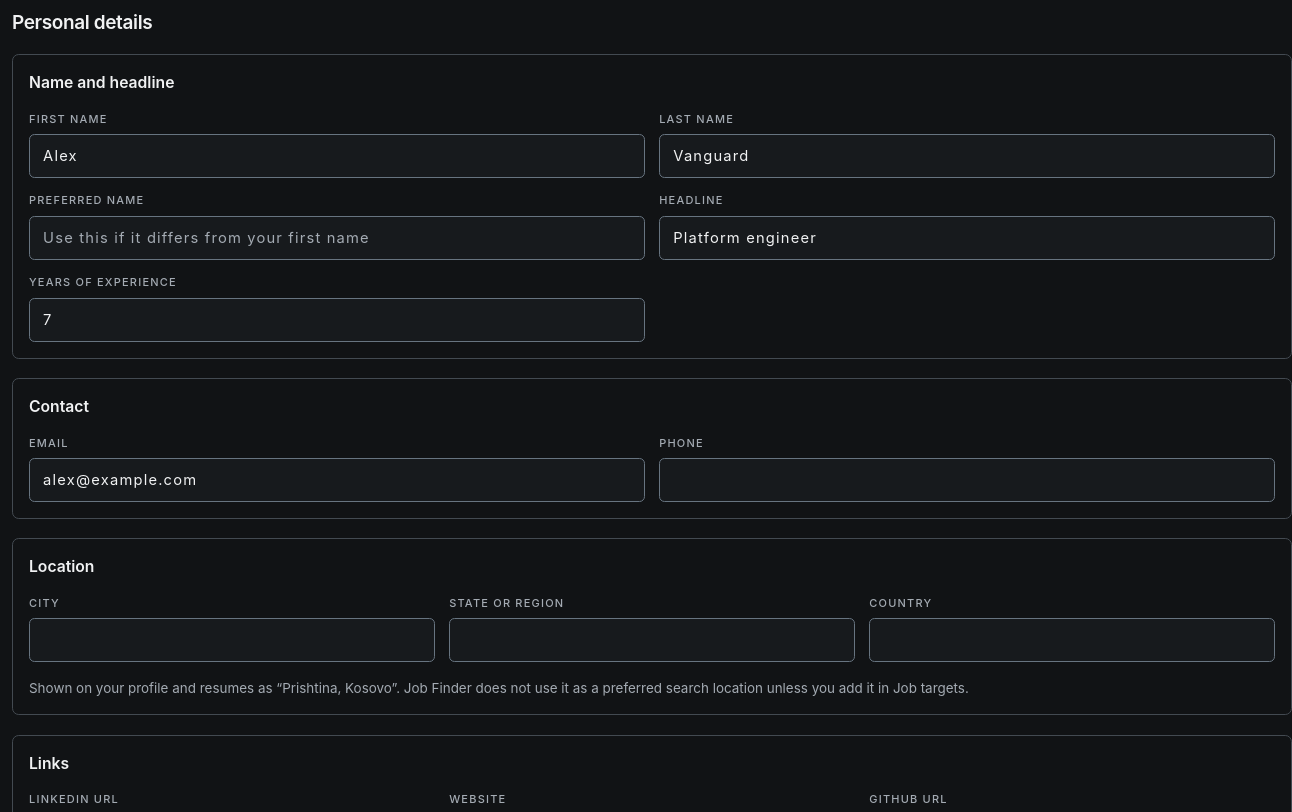
Test: ProfileCoreTab accessibility › marks an invalid email with an inline accessible error
The width and height of the screenshot is (1292, 812).
Step 1. Replace the text in the field labelled "Email" with "not-an-email" → [337, 480], box [29,458,645,502]
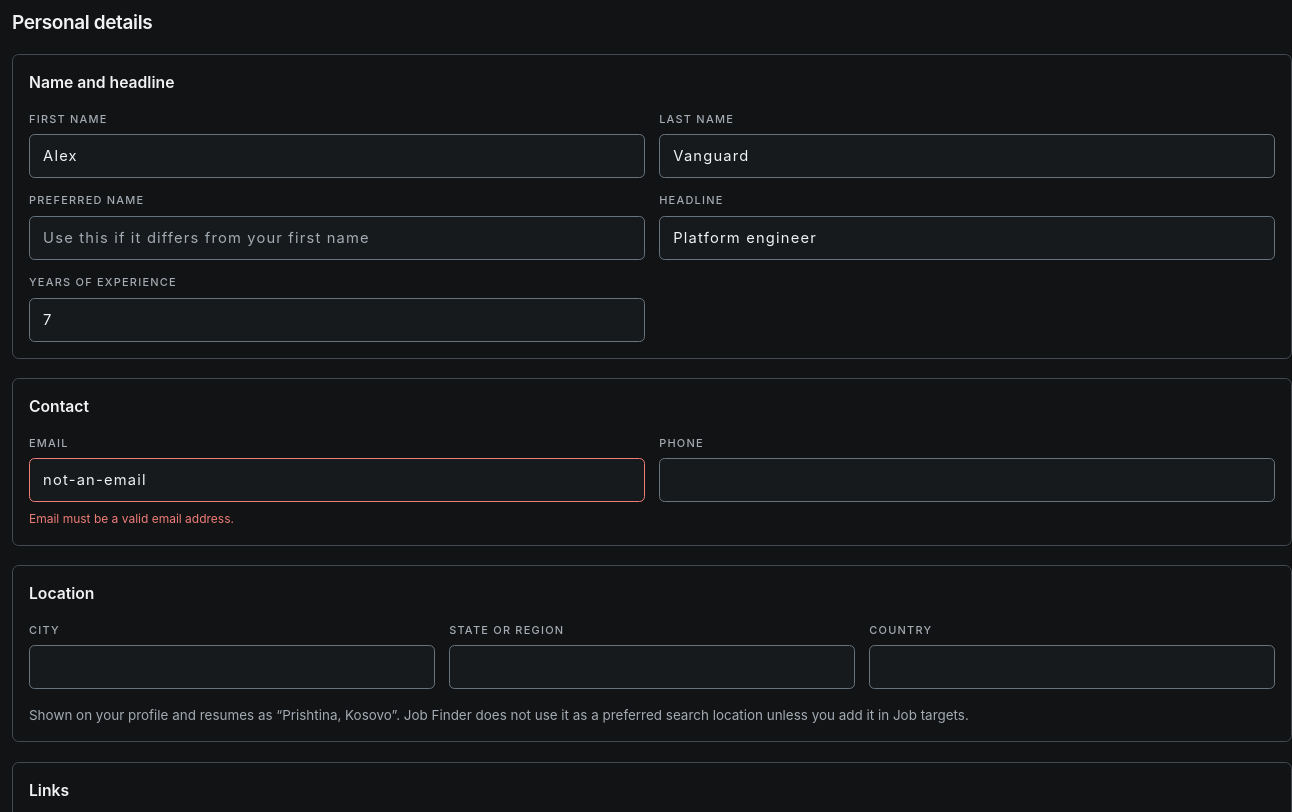
Now the message reads "Email must be a valid email address.", box [29,511,234,526]
Step 2. Replace the text in the field labelled "Email" with "alex@example.com" → [337, 480], box [29,458,645,502]
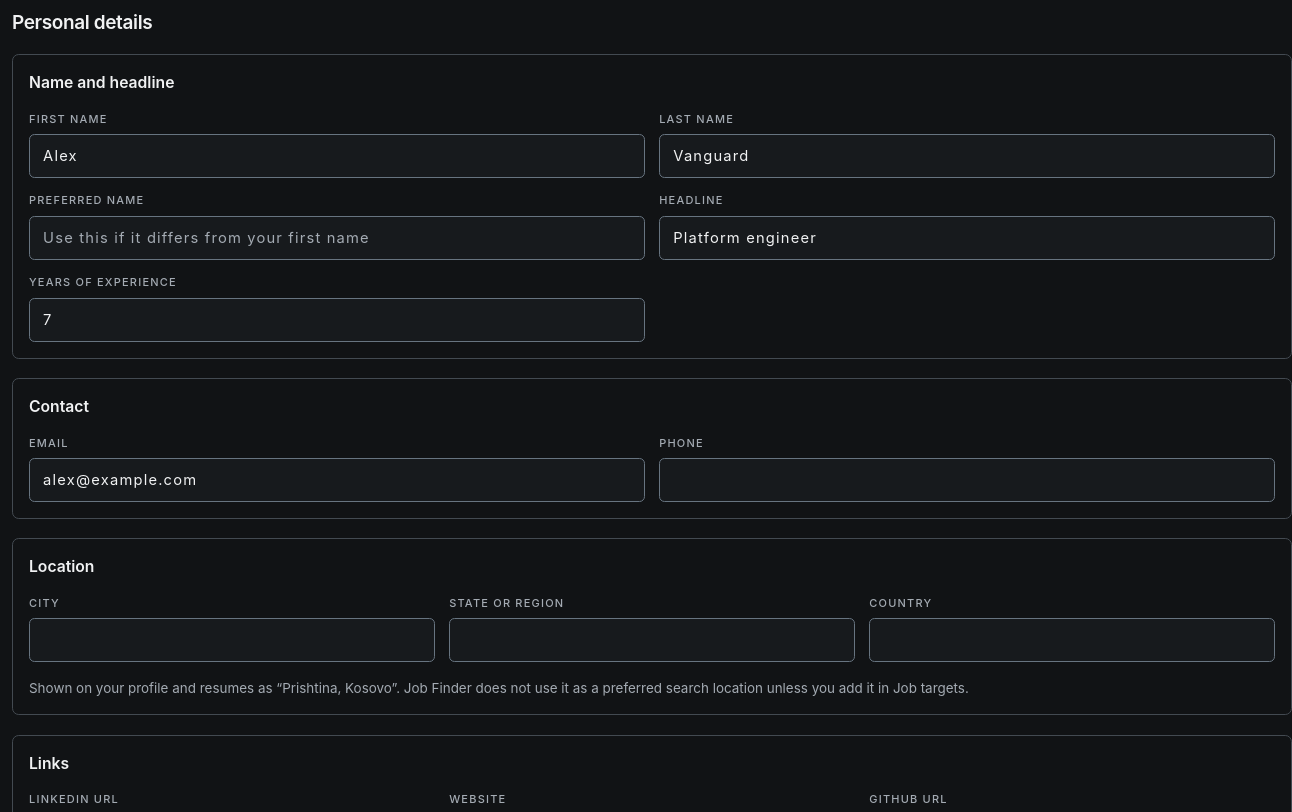
Now the message "Email must be a valid email address." is gone
